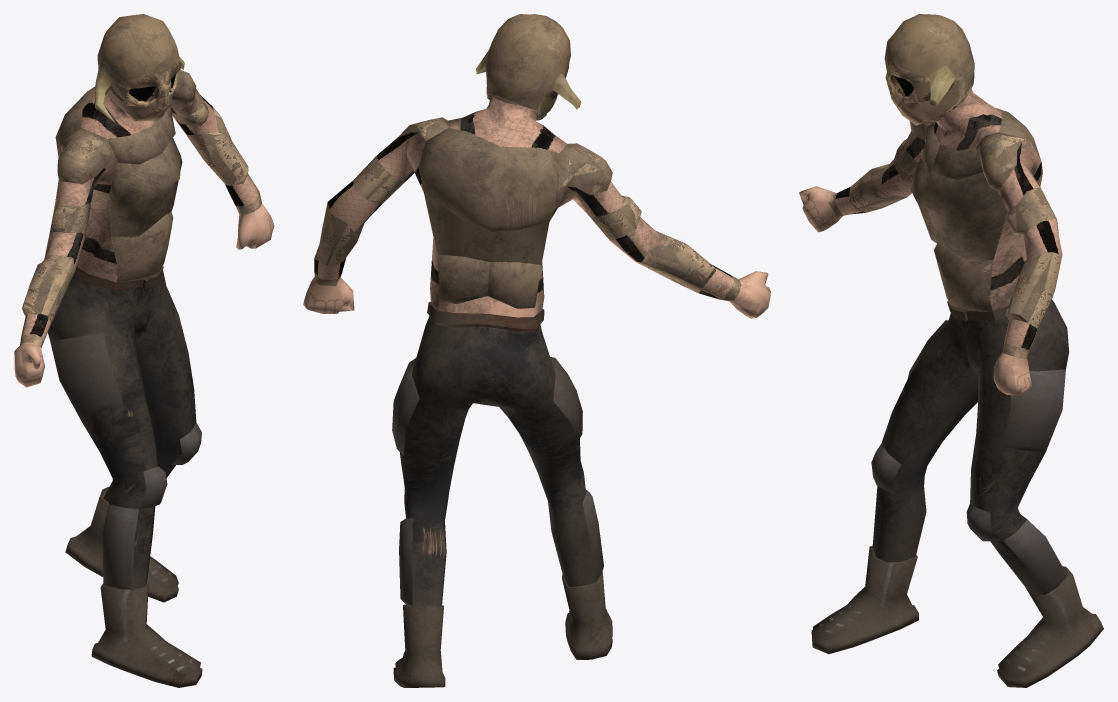
File: Anim_interruptor_npc1.0023.obj
3 renders of one model, left to right at view 1: azimuth 30°, elevation 25°; view 2: azimuth 150°, elevation 25°; view 3: azimuth 270°, elevation 25°, orthographic. The views are drawn at different scales.
Visible parts, largest first — view 1: NPC2; view 2: NPC2; view 3: NPC2.
Boxes of the visible parts, x1=… form: NPC2: x1=14, y1=14, x2=274, y2=687; NPC2: x1=303, y1=14, x2=770, y2=687; NPC2: x1=799, y1=14, x2=1103, y2=687.
Bounding box in the file's own units: 5.42 × 9.23 × 4.04.
